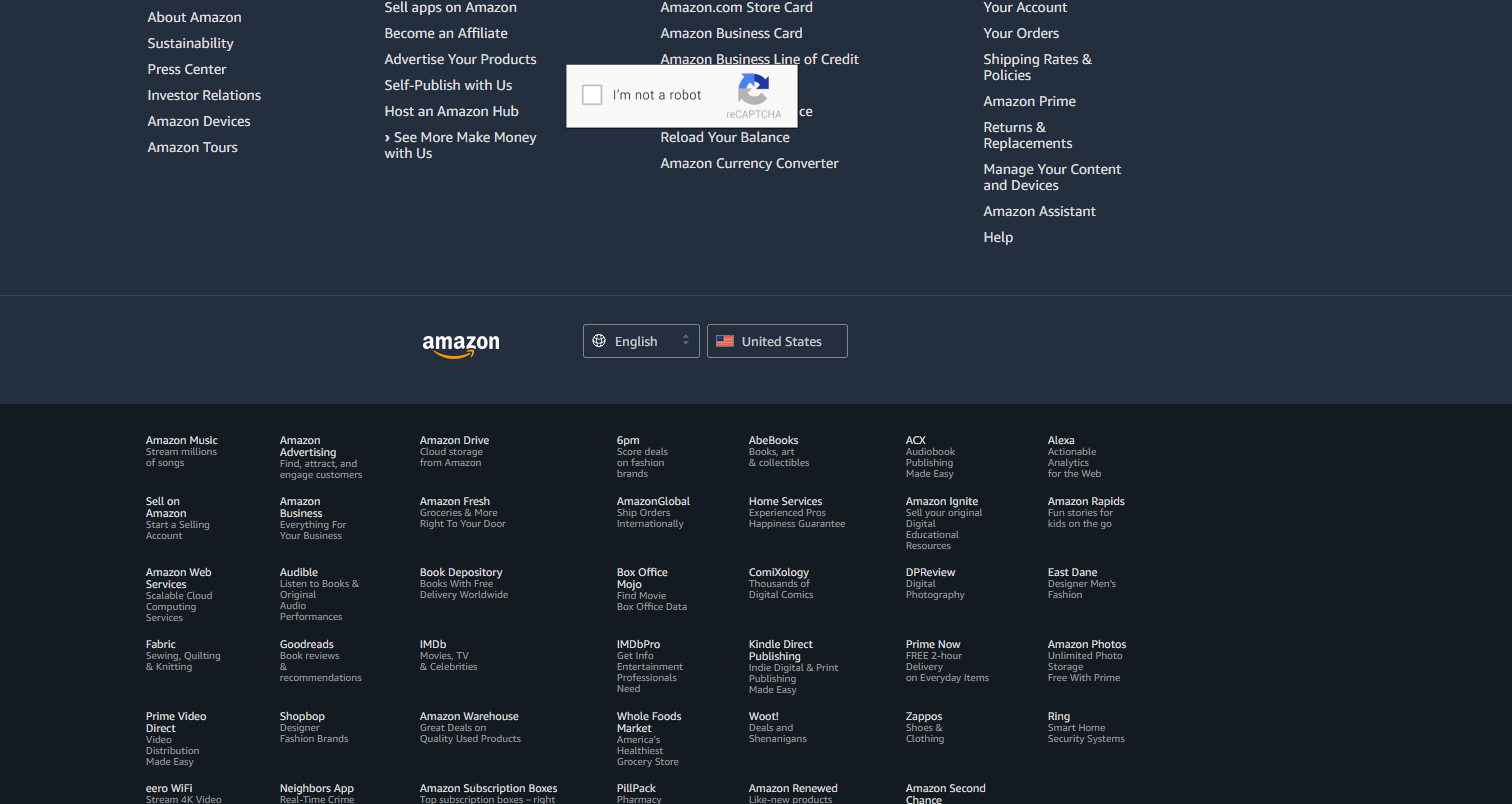captcha: (560, 59, 807, 132)
